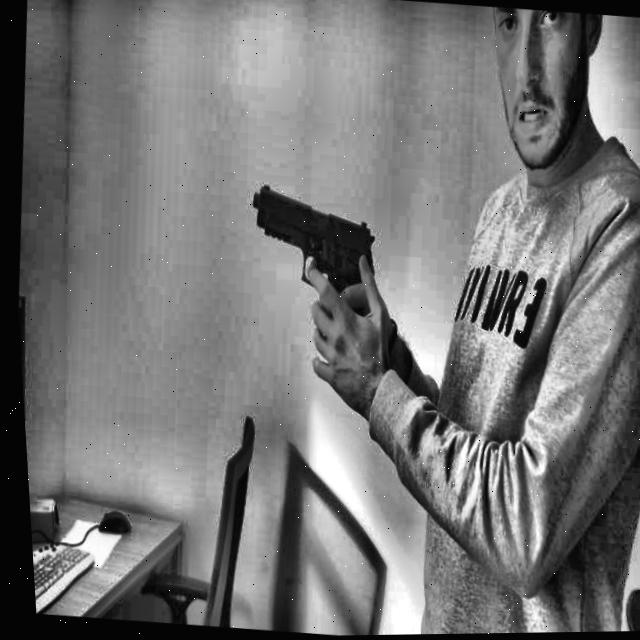pistol: (213, 135, 410, 357)
